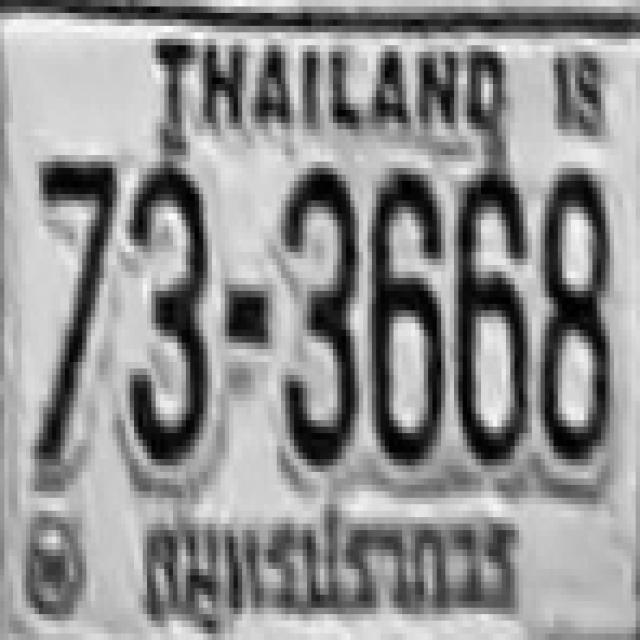3: (124, 158, 205, 462), (276, 165, 354, 462)
6: (368, 162, 441, 459), (454, 168, 523, 459)
7: (32, 152, 114, 462)
8: (534, 162, 608, 459)
SamutPrakan: (139, 498, 529, 630)
